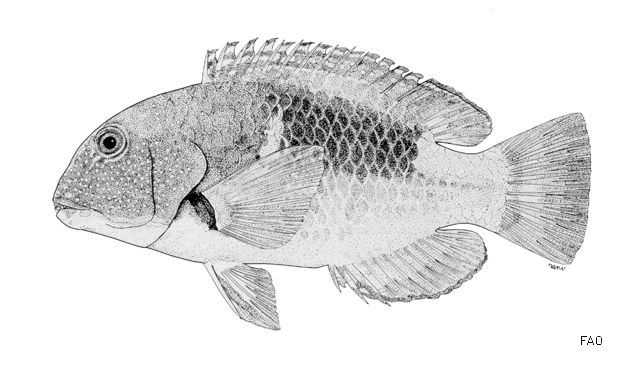fish: (52, 37, 593, 330)
